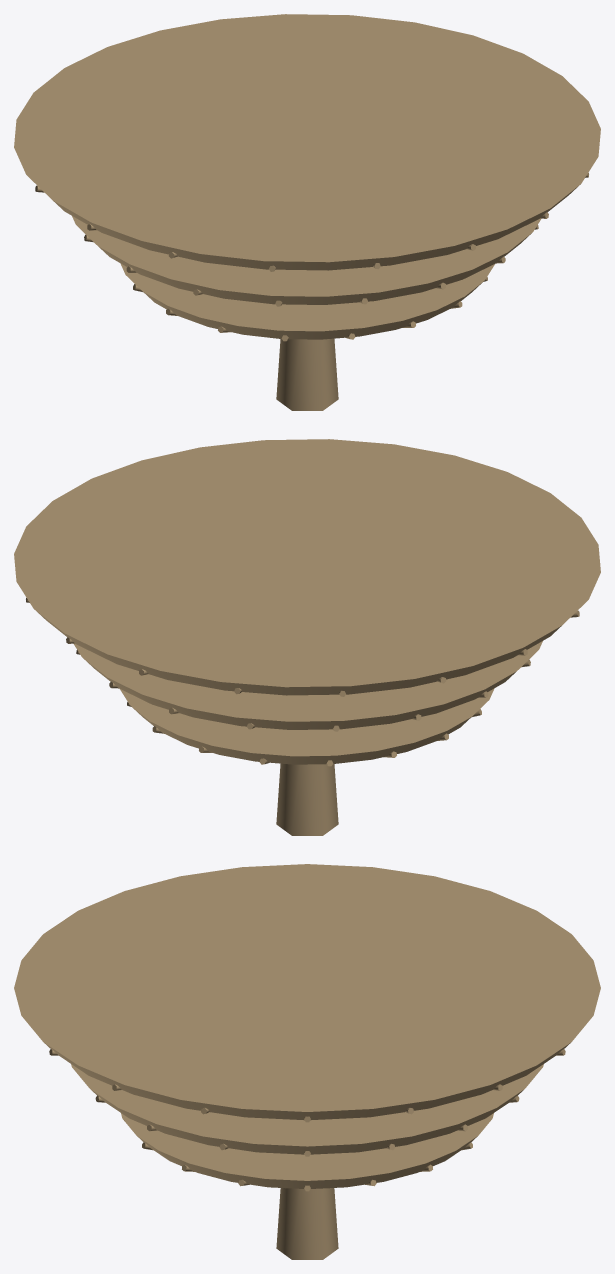
The model's file is coral-table.glb.
The picture shows the model from 3 angles, top to bottom: view 1: azimuth 30°, elevation 25°; view 2: azimuth 150°, elevation 25°; view 3: azimuth 270°, elevation 25°; orthographic projection.
Parts seen in each view (by area): view 1: Original authored part; view 2: Original authored part; view 3: Original authored part.
Part boxes in pixels (x1,y1,x2,y2): Original authored part: (14,14,600,410); Original authored part: (14,439,600,835); Original authored part: (14,864,600,1259).
Bounding box in the file's own units: 1.7 × 0.8325 × 1.7.
